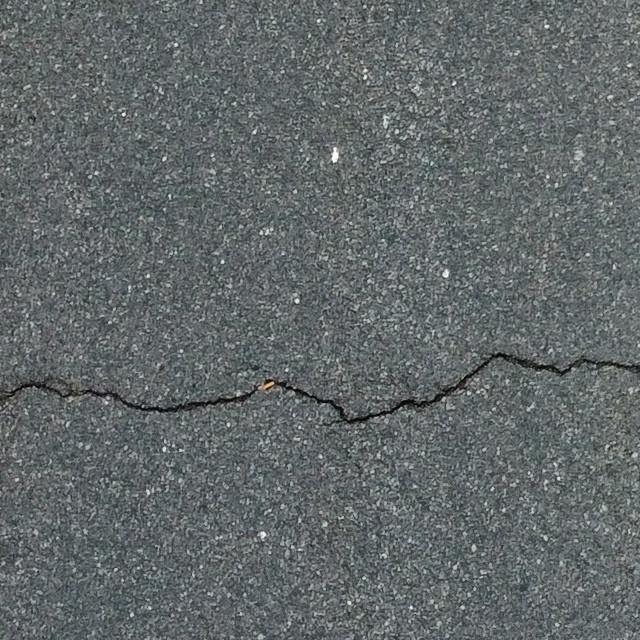TransverseCrack: (1, 350, 640, 426)
